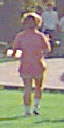person: (9, 10, 55, 115)
